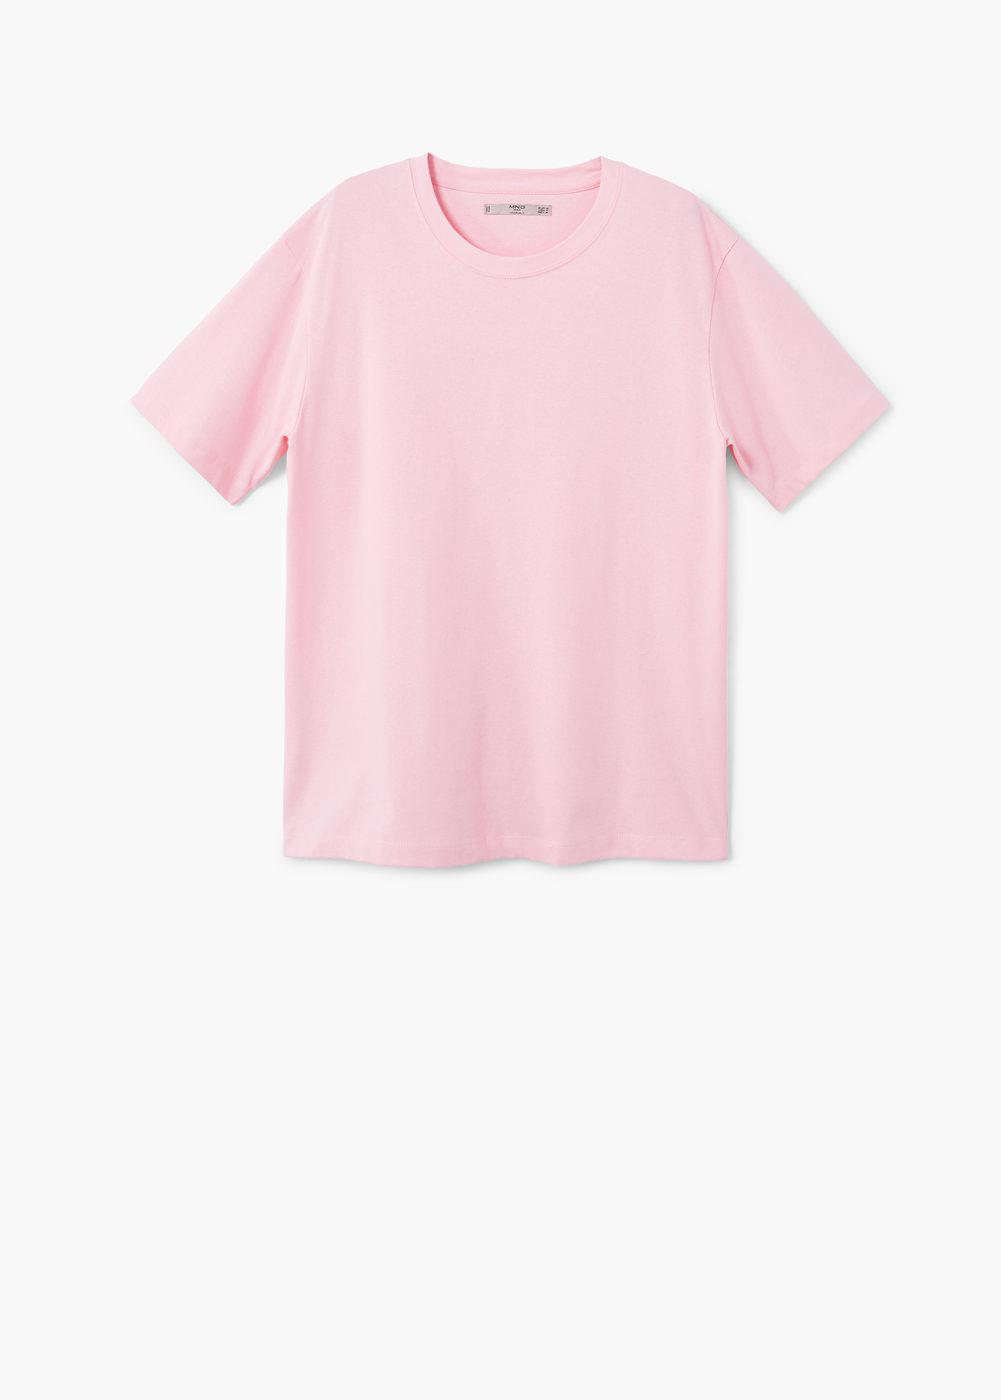teeshirt: (97, 144, 929, 995)
